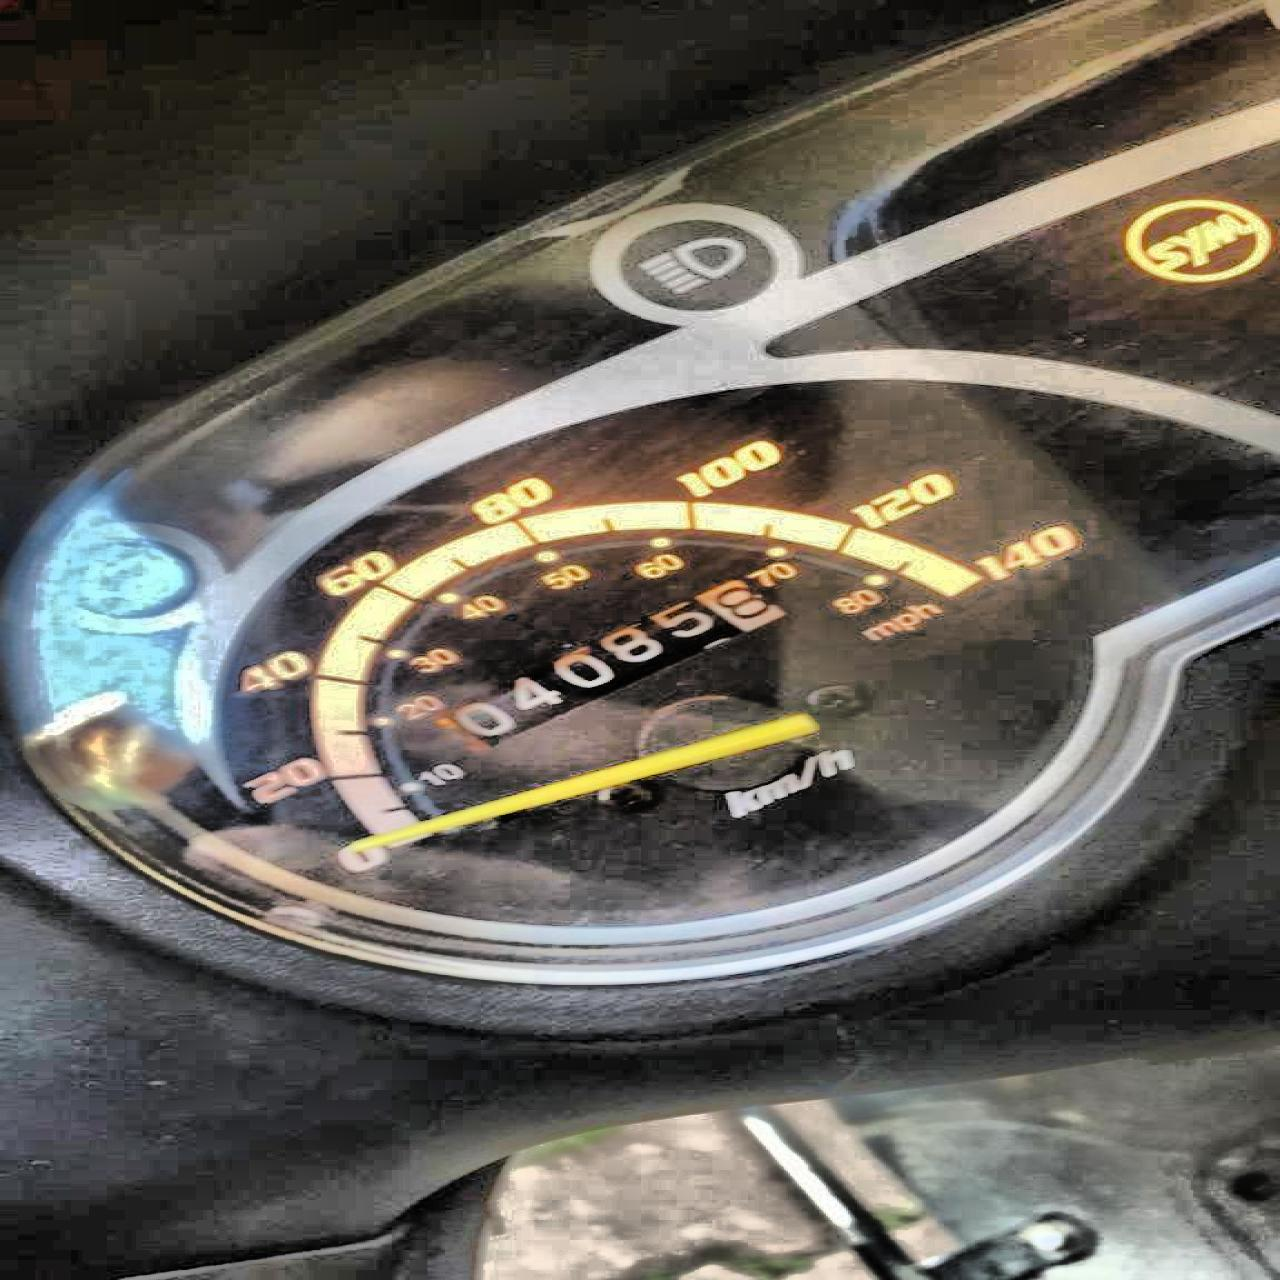0: (550, 652, 617, 688), (452, 701, 512, 736), (425, 647, 456, 662), (472, 595, 503, 610)
4: (512, 675, 559, 709), (458, 601, 488, 619)
5: (648, 600, 713, 638)
8: (599, 626, 663, 661), (713, 585, 770, 618)
odometer: (436, 578, 790, 750)
